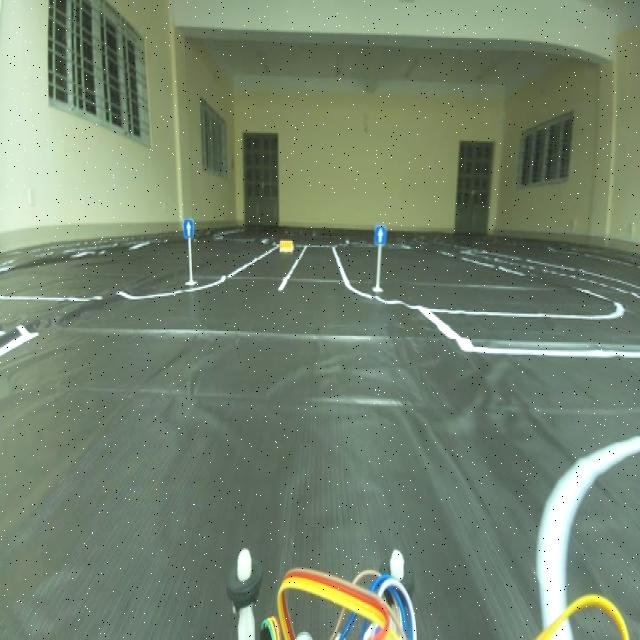onewayroad: (374, 220, 388, 252), (183, 212, 198, 238)
roadblock: (277, 236, 296, 254)
